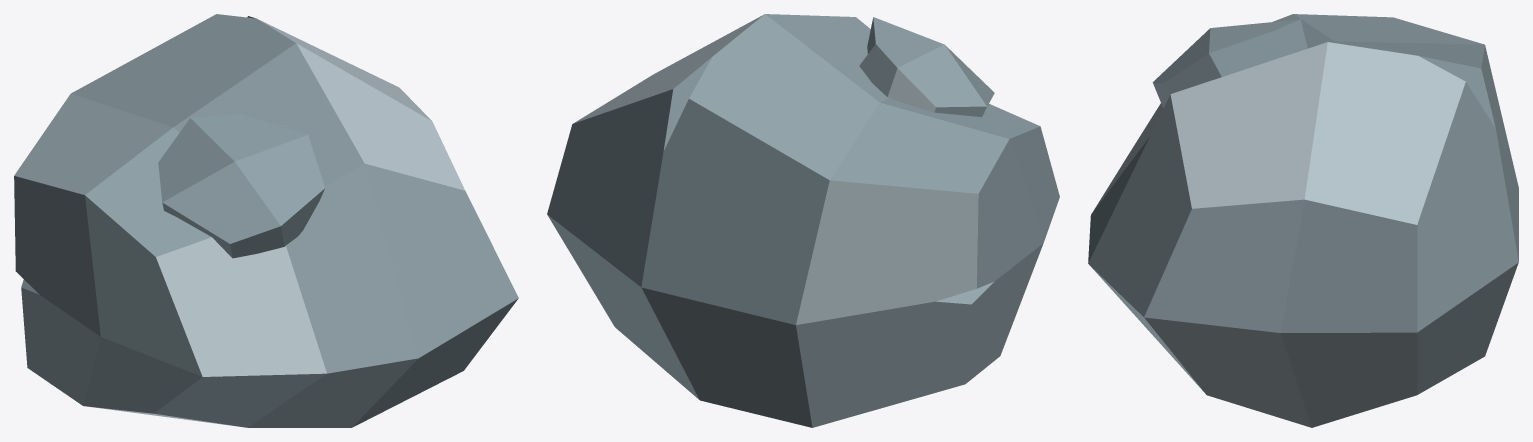
Rendered from stone2.gltf.
3 renders of one model, left to right at view 1: azimuth 30°, elevation 25°; view 2: azimuth 150°, elevation 25°; view 3: azimuth 270°, elevation 25°, orthographic.
Visible parts, largest first — view 1: node-0; view 2: node-0; view 3: node-0.
Boxes of the visible parts, x1,y1,x2,y2 form: node-0: (14,14,518,427); node-0: (547,14,1059,427); node-0: (1088,14,1518,427).
Bounding box in the file's own units: 240 × 200 × 216.
